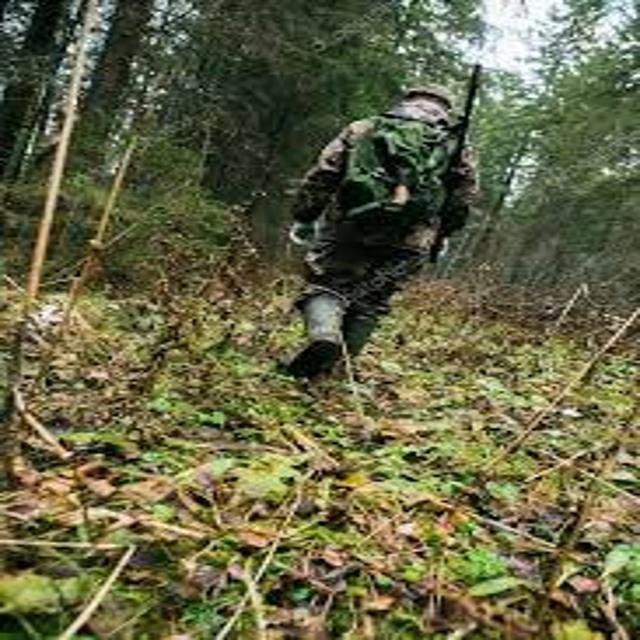backpack: (295, 91, 492, 259)
poacher: (237, 40, 511, 409)
